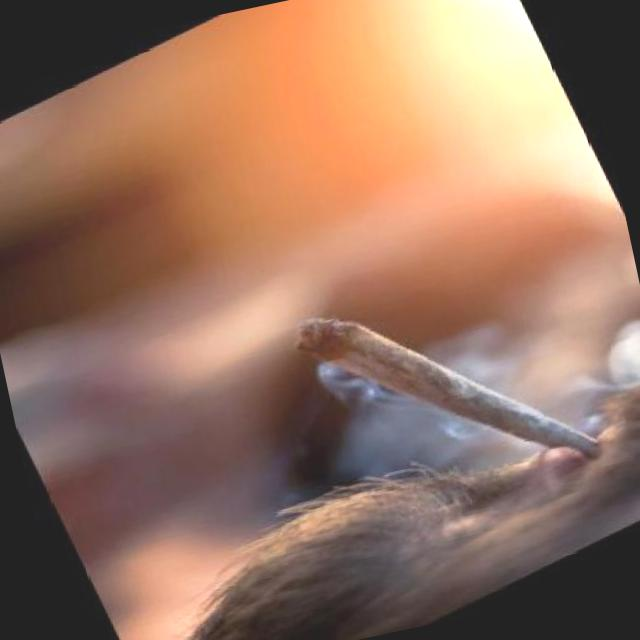cigarette: (269, 208, 622, 565)
